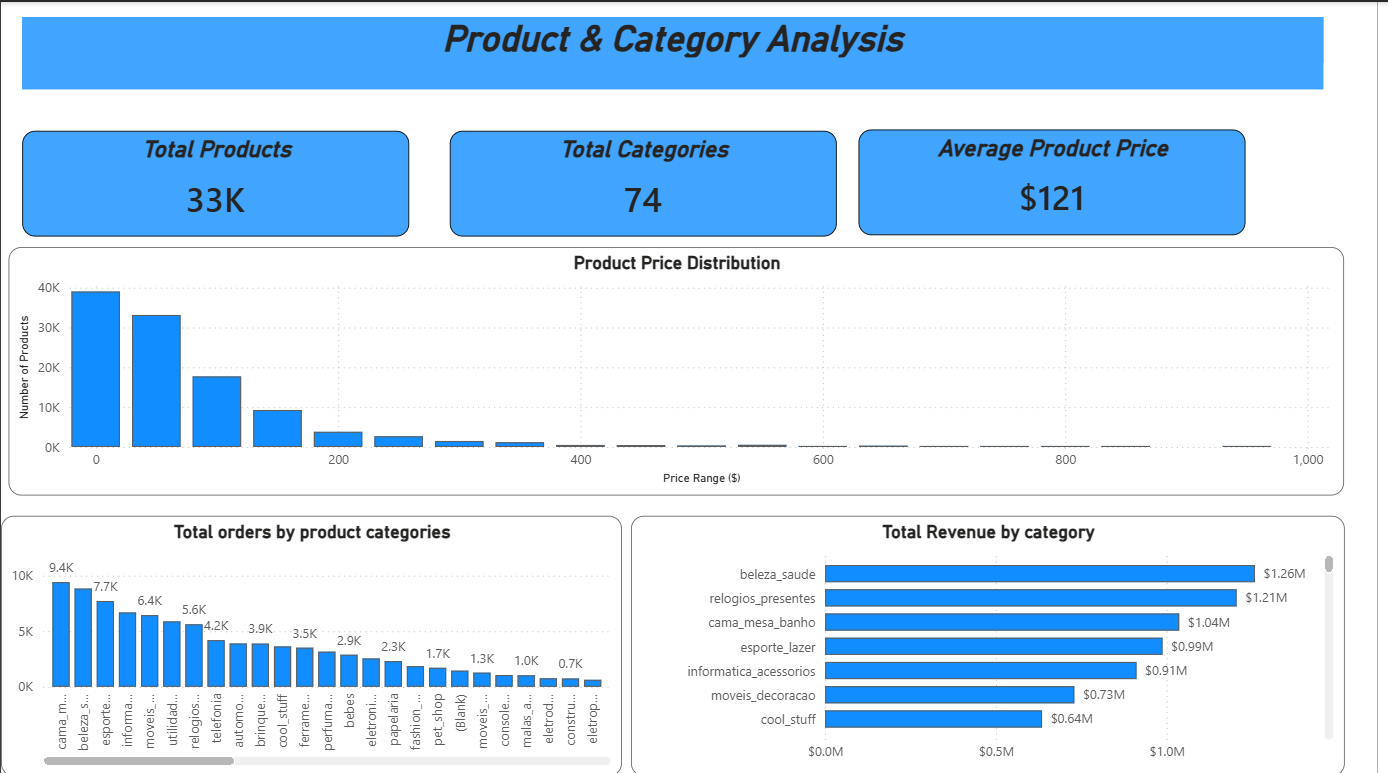

The dashboard page shown, as its layout file describes it:
{"tool":"powerbi","page":{"name":"Product Analysis","canvas":[1280,720],"ordinal":2},"visuals":[{"type":"cardVisual","title":"Total Products","fields":{"Data":["products.Total Products"]},"box":[20,120,360,98.6],"z":0},{"type":"cardVisual","title":"Total Categories","fields":{"Data":["products.Total Categories"]},"box":[417.5,120,360,98.6],"z":1000},{"type":"cardVisual","title":"Average Product Price","fields":{"Data":["products.Average Product Price"]},"box":[797.5,118.8,360,98.6],"z":2000},{"type":"clusteredColumnChart","title":"Total orders by product categories","fields":{"Category":["products.product_category_name"],"Y":["order_items.Total_Orders1"]},"box":[0,477.5,577.5,242.5],"z":3000},{"type":"clusteredColumnChart","title":"Product Price Distribution","fields":{"Category":["order_items.price (bins)"],"Y":["CountNonNull(order_items.product_id)"]},"box":[7.5,227.5,1242.5,231.2],"z":4000},{"type":"clusteredBarChart","title":"Total Revenue by category","fields":{"Category":["products.product_category_name"],"Y":["order_items.Total Revenue2"]},"box":[586.2,477.5,663.8,242.5],"z":5000},{"type":"shape","title":"Product & Category Analysis","box":[20,13.8,1210,67.5],"z":5002}]}

Visuals, with their boxes in screenshot pixels (x1, y1, x2, y2), scaled from the page's 1280x720 canvas onto the 1388x773 screenshot:
"Total Products" cardVisual: <box>22,129,412,235</box>
"Total Categories" cardVisual: <box>453,129,843,235</box>
"Average Product Price" cardVisual: <box>865,128,1255,233</box>
"Total orders by product categories" clusteredColumnChart: <box>0,513,626,772</box>
"Product Price Distribution" clusteredColumnChart: <box>8,244,1355,492</box>
"Total Revenue by category" clusteredBarChart: <box>636,513,1355,772</box>
"Product & Category Analysis" shape: <box>22,15,1334,87</box>
